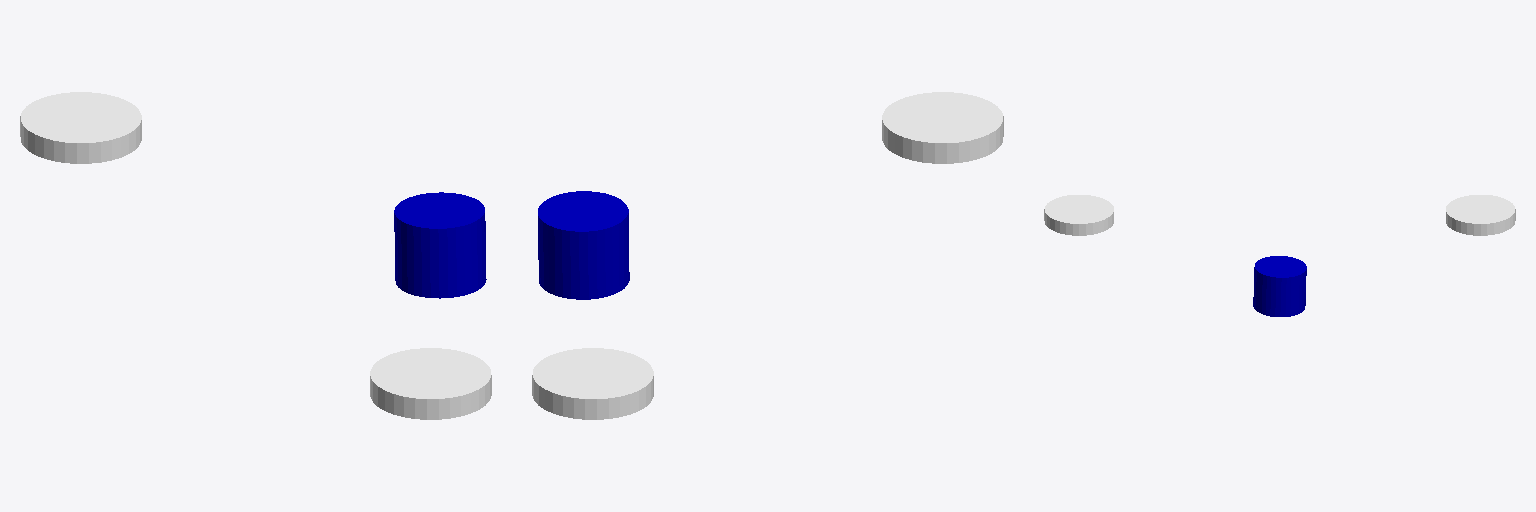
URDF robot description (BaojunE100):
<?xml version="1.0"?>
<robot name="BaojunE100">
  <!-- color map -->
  <material name="red">
    <color rgba="1 0 0 0.5" />
  </material>
  <material name="black">
    <color rgba="1 0 1 1" />
  </material>
  <material name="white">
    <color rgba="1 1 1 1" />
  </material>
  <material name="blue">
    <color rgba="0 0 0.8 1"/>
  </material>
  <material name="gray">
    <color rgba="0.2 0.2 0.2 1" />
  </material>
  <!-- draw vehicle body -->
  <link name="vehicle">
    <!-- vehicle body -->
    <visual>
      <geometry>
        <mesh filename="package://part_based_tracking/../mesh/BaojunE100/BaojunE100.dae" />
      </geometry>
      <material name="white"/>
      <origin rpy="0 0 1.57" xyz="0.7 0 0"/>
    </visual>
  </link>

  <link name="gps">
    <!-- GPS front antenna -->
    <visual>
      <geometry>
        <cylinder length="0.03" radius="0.08"/>
      </geometry>
      <origin rpy="0 0 0" xyz="0 0.46 0"/>
      <material name="white"/>
    </visual>
    <!-- GPS rear antenna -->
    <visual>
      <geometry>
        <cylinder length="0.03" radius="0.08"/>
      </geometry>
      <origin rpy="0 0 0" xyz="0 -0.46 0"/>
      <material name="white"/>
    </visual>
  </link>
  <joint name="vehicle_to_gps" type="fixed">
    <parent link="vehicle"/>
    <child link="gps"/>
    <origin rpy="0 0 0" xyz="0.2 0 1.8"/>
  </joint>

  <!-- draw front lidar -->
  <link name="lidar_front">
    <visual>
      <geometry>
        <cylinder length="0.1" radius="0.06"/>
      </geometry>
      <origin rpy="0 0 0" xyz="0 0 0"/>
      <material name="blue"/>
    </visual>
  </link>
  <joint name="vehicle_to_lidar_front" type="fixed">
    <parent link="vehicle"/>
    <child link="lidar_front"/>
    <origin rpy="0 0.03 1.608" xyz="0.48 0 1.75"/>
  </joint>

</robot>

--- What the picture shows (computed from the rendered views, not written in the file) ---
The picture shows the robot from 3 angles, left to right: view 1: azimuth 30°, elevation 25°; view 2: azimuth 150°, elevation 25°; view 3: azimuth 270°, elevation 25°; orthographic projection.
Model BaojunE100 with 3 links and 2 joints (2 fixed), rooted at vehicle, posed all joints at 0.
Visible links, largest first — view 1: gps, lidar_front; view 2: gps, lidar_front; view 3: gps, lidar_front.
Boxes of the visible links, x1,y1,x2,y2 form: gps: [20, 92, 491, 419]; lidar_front: [394, 192, 486, 298]; gps: [532, 92, 1003, 419]; lidar_front: [538, 191, 629, 299]; gps: [1044, 195, 1515, 235]; lidar_front: [1253, 256, 1306, 316].
Bounding box of the posed robot: 0.42 × 1.08 × 0.1168 m (x, y, z).
0 mesh visuals loaded from 1 distinct referenced files (none loaded); not drawn: 1 (reference not matched to a file when rendering).
